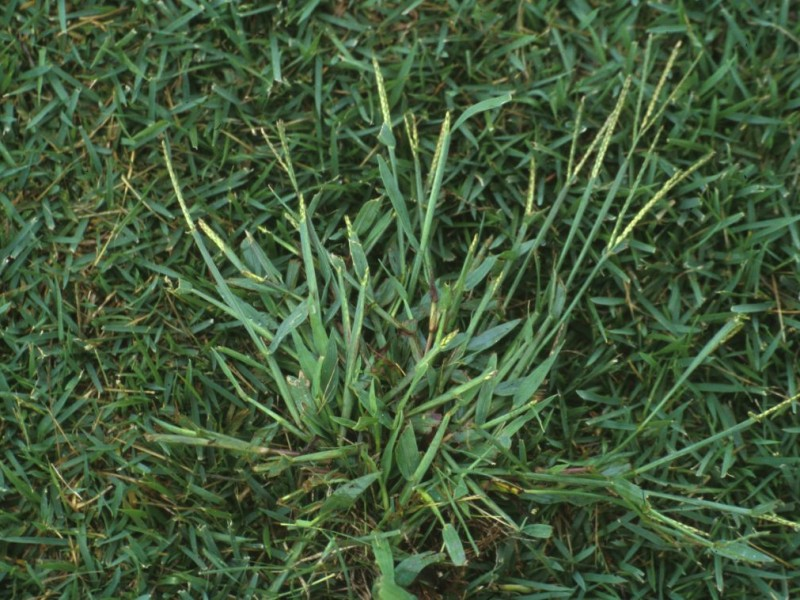crabgrass: (167, 187, 673, 574)
